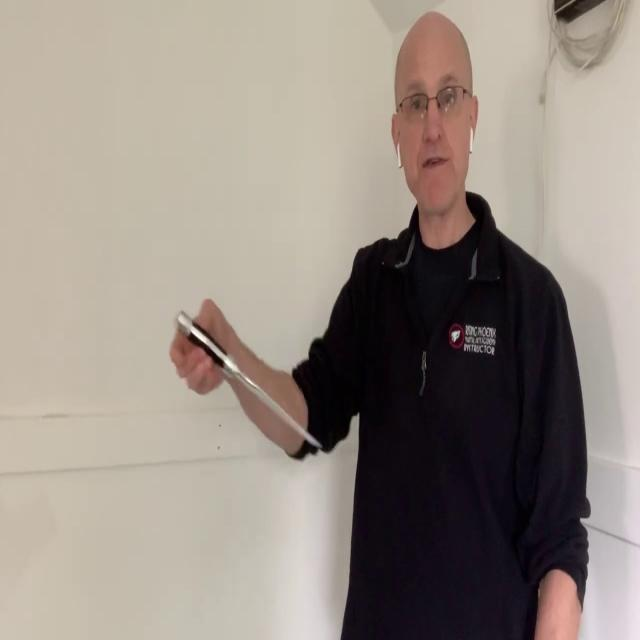Knife_Handle: (168, 295, 322, 449)
